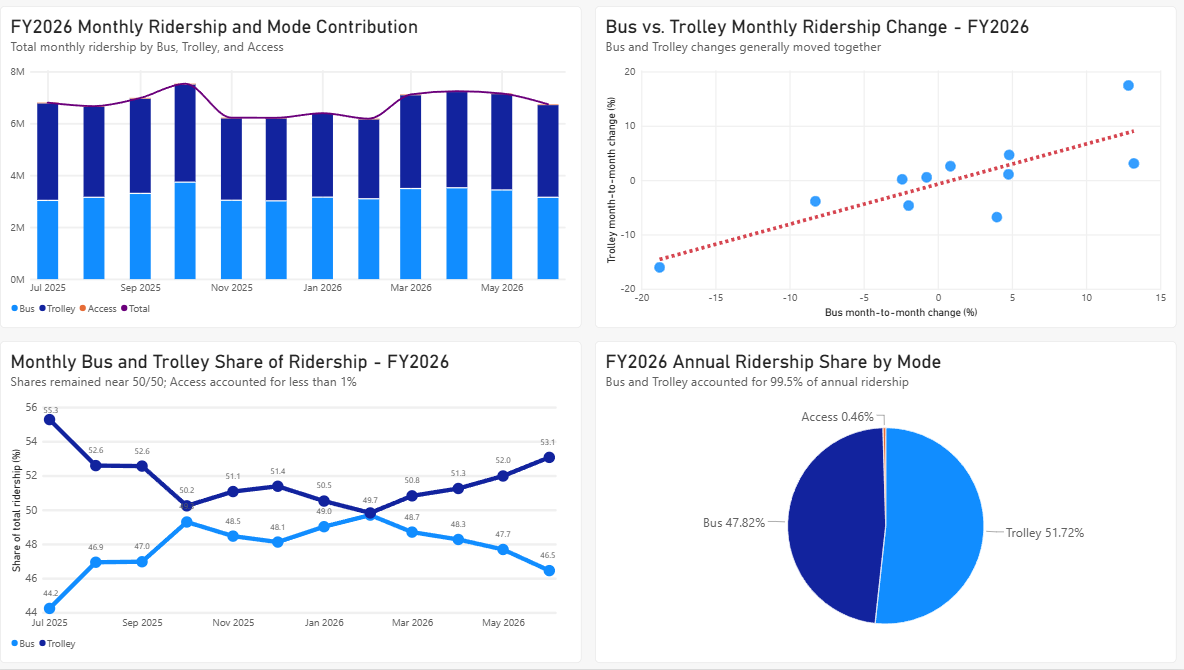

What the dashboard file says about the page in this screenshot:
{"tool":"powerbi","page":{"name":"Ridership Overview","canvas":[1920,1080],"ordinal":0},"visuals":[{"type":"lineStackedColumnComboChart","title":"FY2026 Monthly Ridership and Mode Contribution","fields":{"Category":["fy2026_powerbi.Month"],"Y":["Sum(fy2026_powerbi.Bus)","Sum(fy2026_powerbi.Trolley)","Sum(fy2026_powerbi.Access)"],"Y2":["Sum(fy2026_powerbi.Total)"]},"box":[8.6,10,939,520],"z":0},{"type":"scatterChart","title":"Bus vs. Trolley Monthly Ridership Change - FY2026","fields":{"Category":["fy2026_powerbi.Month"],"X":["Sum(fy2026_powerbi.bus_pct_change)"],"Y":["Sum(fy2026_powerbi.trolley_pct_change)"]},"box":[968.2,10,939,520],"z":1000},{"type":"lineChart","title":"Monthly Bus and Trolley Share of Ridership - FY2026","fields":{"Category":["fy2026_powerbi.Month"],"Y":["Sum(fy2026_powerbi.bus_share)","Sum(fy2026_powerbi.trolley_share)"]},"box":[8.6,550.4,939,520],"z":2000},{"type":"pieChart","title":"FY2026 Annual Ridership Share by Mode","fields":{"Category":["annual_summary_powerbi.Transit Mode"],"Y":["Sum(annual_summary_powerbi.Annual Ridership)"]},"box":[968.2,550.4,939,520],"z":3000}]}

Visuals, with their boxes in screenshot pixels (x1, y1, x2, y2), scaled from the page's 1920x1080 canvas onto the 1184x670 screenshot:
"FY2026 Monthly Ridership and Mode Contribution" lineStackedColumnComboChart: (left=5, top=6, right=584, bottom=329)
"Bus vs. Trolley Monthly Ridership Change - FY2026" scatterChart: (left=597, top=6, right=1176, bottom=329)
"Monthly Bus and Trolley Share of Ridership - FY2026" lineChart: (left=5, top=341, right=584, bottom=664)
"FY2026 Annual Ridership Share by Mode" pieChart: (left=597, top=341, right=1176, bottom=664)
